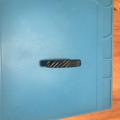gear: (39, 58, 82, 70)
